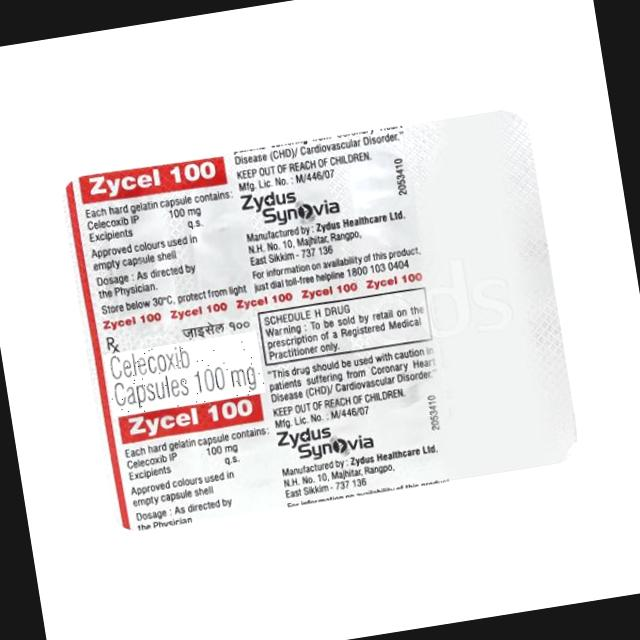Medicine-name: (105, 333, 267, 418)
